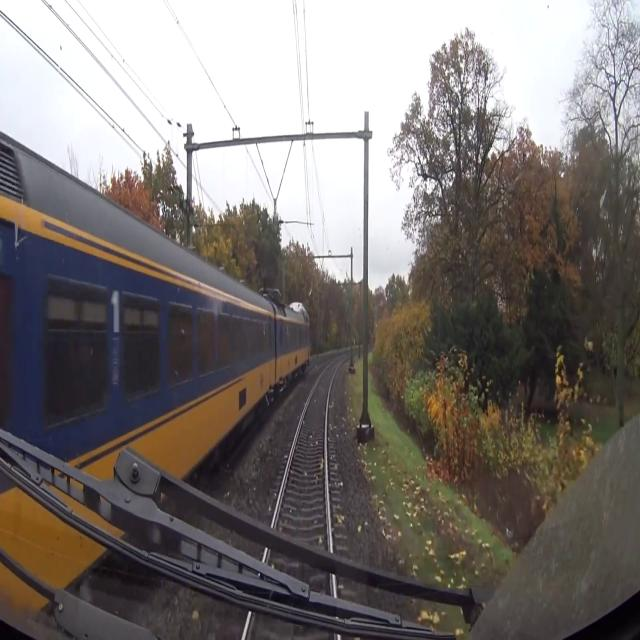rail-track: (275, 361, 339, 551)
